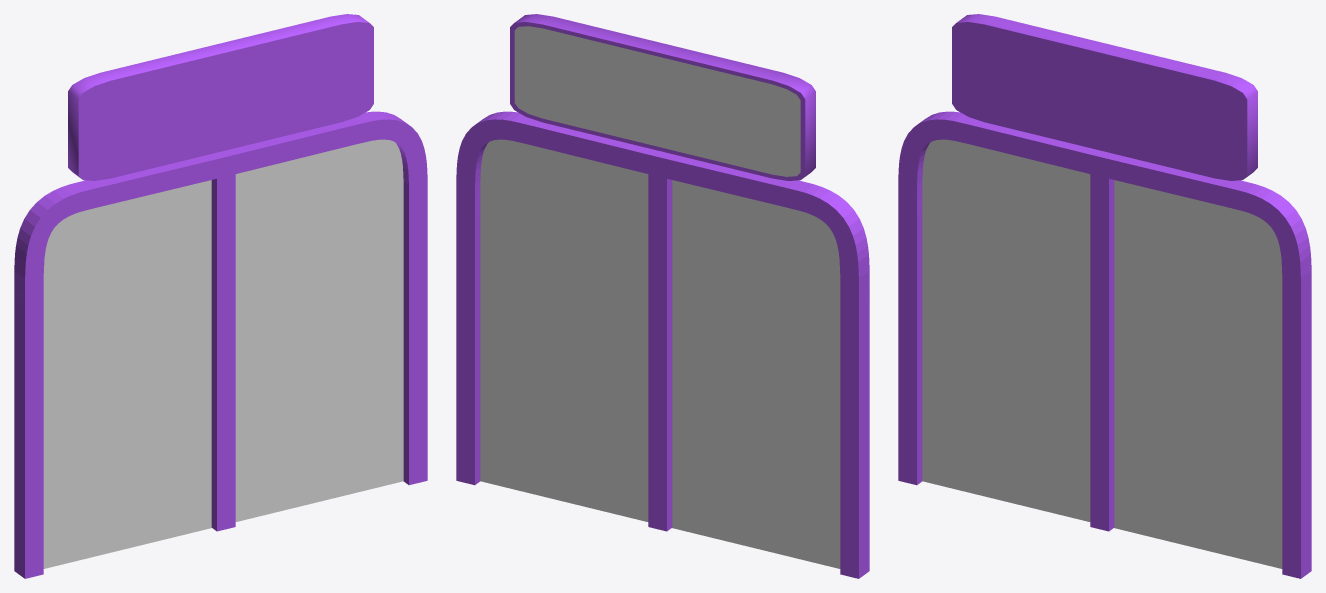
Rendered from Door (3).fbx.
The picture shows the model from 3 angles, left to right: view 1: azimuth 30°, elevation 25°; view 2: azimuth 150°, elevation 25°; view 3: azimuth 330°, elevation 25°; orthographic projection.
Visible parts, largest first — view 1: Door_Talent_Show.001, Plane.006, Plane.005; view 2: Door_Talent_Show.001, Plane.006, Plane.005; view 3: Door_Talent_Show.001, Plane.005, Plane.006.
Part boxes in pixels (left/top/right/bottom): Door_Talent_Show.001: left=14, top=14, right=427, bottom=578; Plane.006: left=235, top=139, right=403, bottom=521; Plane.005: left=43, top=180, right=211, bottom=568; Door_Talent_Show.001: left=456, top=14, right=869, bottom=578; Plane.006: left=480, top=139, right=648, bottom=521; Plane.005: left=672, top=180, right=840, bottom=568; Door_Talent_Show.001: left=898, top=14, right=1311, bottom=578; Plane.005: left=922, top=139, right=1090, bottom=521; Plane.006: left=1114, top=180, right=1282, bottom=568.
Bounding box in the file's own units: 860 × 974 × 40.01.
